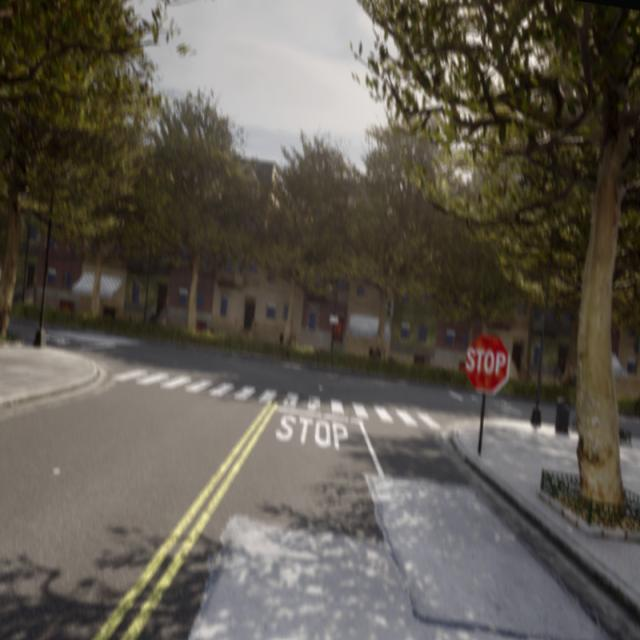stop sign: (462, 330, 511, 396), (464, 344, 507, 378)
